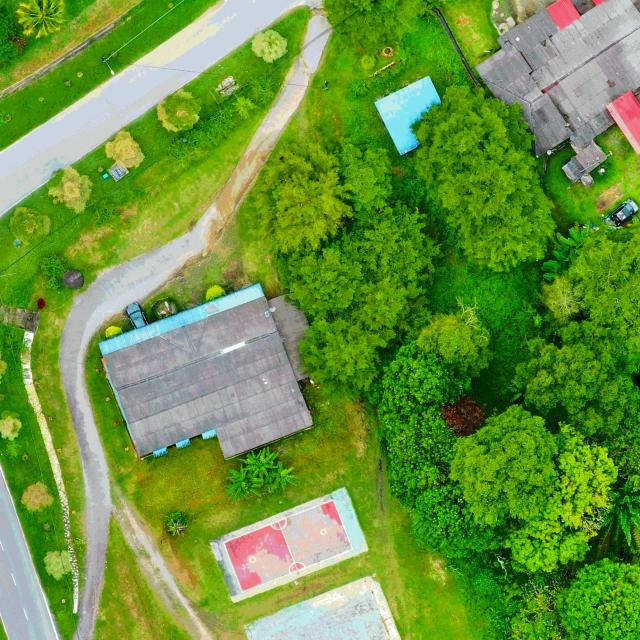Tree: (408, 80, 558, 274), (448, 403, 562, 528), (512, 336, 630, 438), (570, 222, 640, 375), (346, 198, 445, 287), (364, 339, 476, 417), (542, 421, 620, 526), (376, 409, 458, 506), (409, 481, 506, 559), (553, 556, 640, 640), (297, 314, 381, 390), (346, 274, 432, 346), (287, 243, 364, 318), (414, 312, 496, 379), (500, 517, 598, 573), (582, 472, 640, 563), (338, 138, 394, 212), (156, 88, 203, 134), (16, 0, 67, 39), (224, 464, 260, 500), (244, 446, 280, 482), (262, 460, 298, 496), (251, 29, 288, 63)
